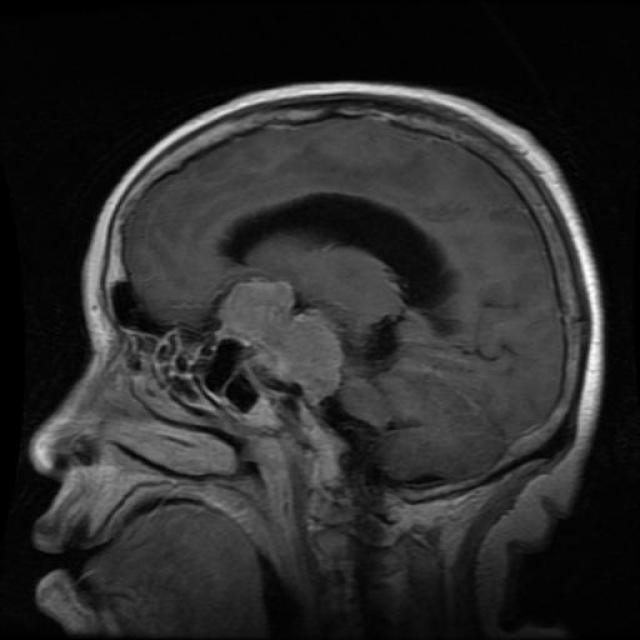meningioma: (222, 282, 342, 400)
